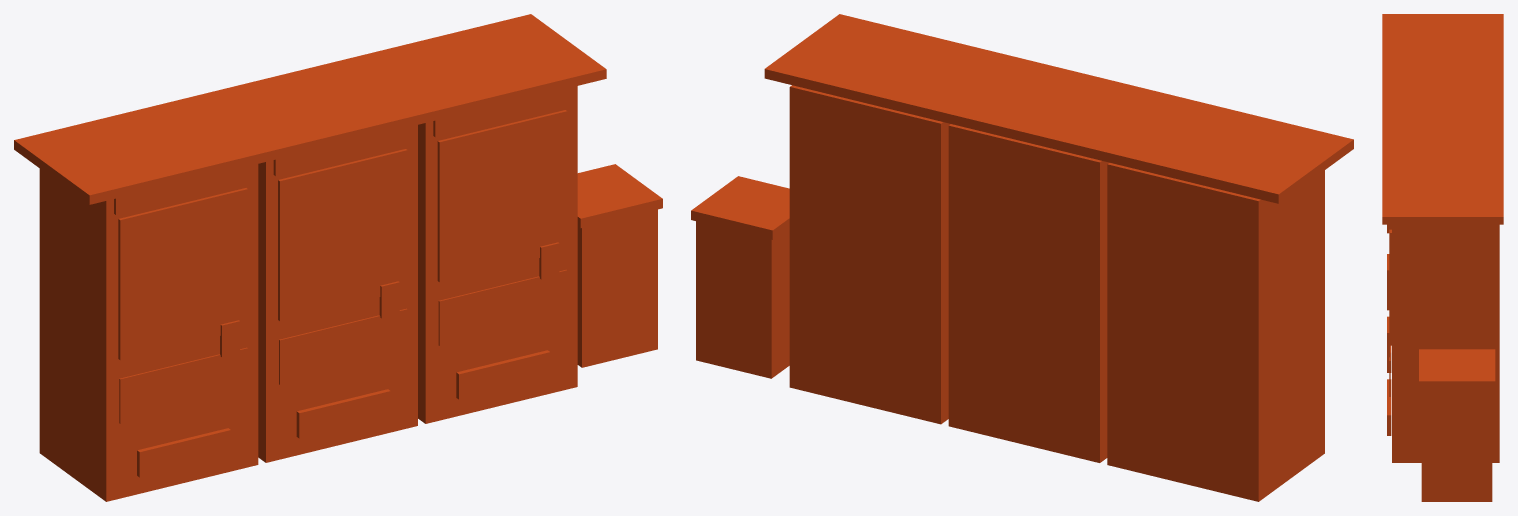
Rendered from gen-vending-row-1.glb.
3 renders of one model, left to right at view 1: azimuth 30°, elevation 25°; view 2: azimuth 150°, elevation 25°; view 3: azimuth 270°, elevation 25°, orthographic. The views are drawn at different scales.
Parts seen in each view (by area): view 1: gen-vending-row-1_part1; view 2: gen-vending-row-1_part1; view 3: gen-vending-row-1_part1.
Boxes of the visible parts, bbox=[...] form: gen-vending-row-1_part1: bbox=[14, 14, 662, 501]; gen-vending-row-1_part1: bbox=[691, 14, 1353, 501]; gen-vending-row-1_part1: bbox=[1382, 14, 1503, 501].
Size of the model in its own units: 3920 by 1990 by 860.
